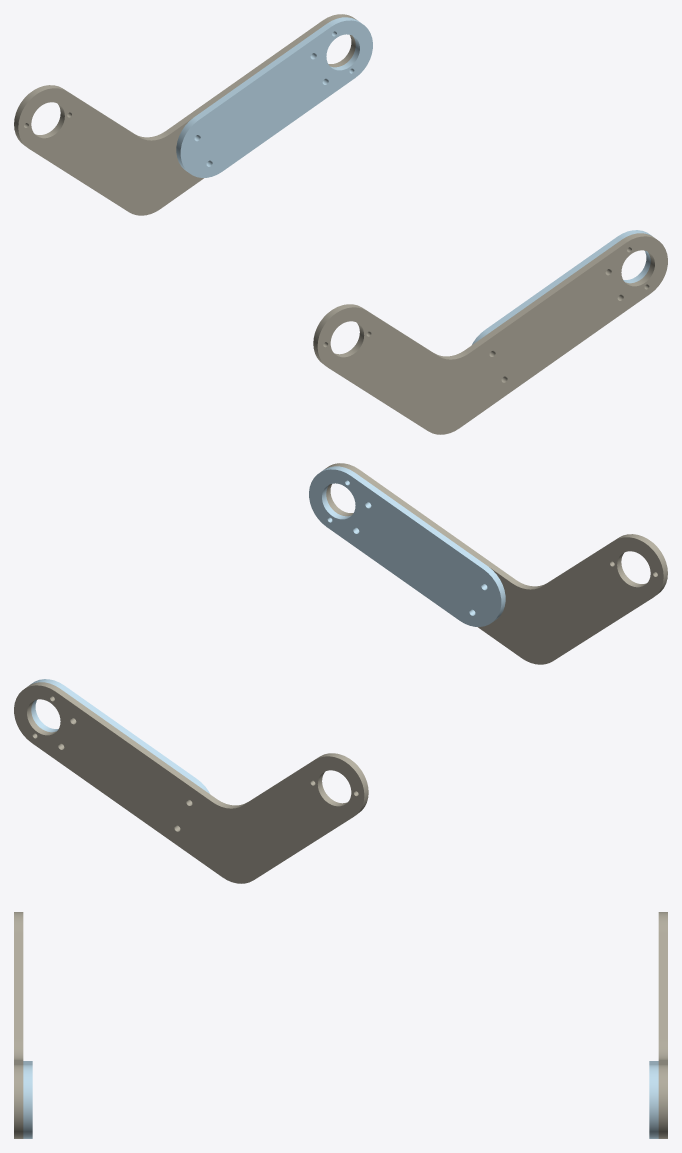
The picture shows the model from 3 angles, top to bottom: view 1: azimuth 30°, elevation 25°; view 2: azimuth 150°, elevation 25°; view 3: azimuth 270°, elevation 25°; orthographic projection. The views are drawn at different scales.
Visible parts, largest first — view 1: short arm (×2), ShortArmInner (×2); view 2: short arm (×2), ShortArmInner (×2); view 3: short arm (×2), ShortArmInner (×2).
Part boxes in pixels (<box>): short arm (×2): <box>14,14,667,434</box>; ShortArmInner (×2): <box>176,17,652,344</box>; short arm (×2): <box>14,463,667,883</box>; ShortArmInner (×2): <box>29,466,505,793</box>; short arm (×2): <box>14,912,667,1138</box>; ShortArmInner (×2): <box>23,1061,658,1138</box>.
Size of the model in its own units: 0.2984 by 0.1222 by 0.4478.
